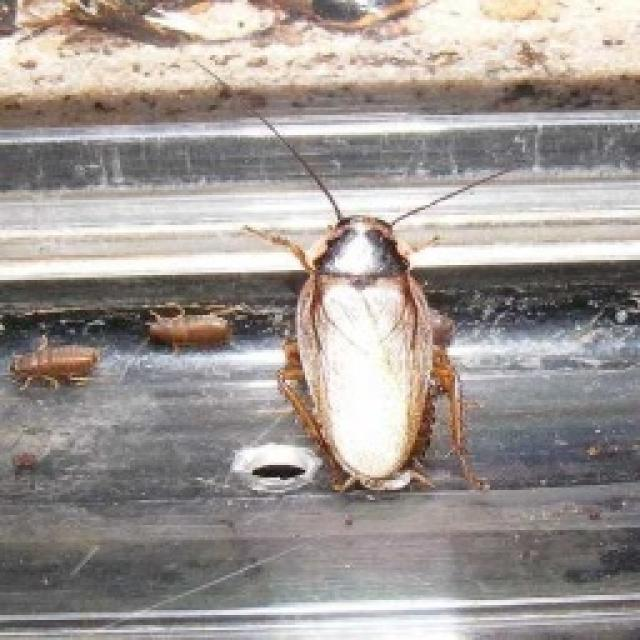cockroach: (291, 215, 441, 485), (140, 303, 260, 372), (8, 327, 120, 389)
